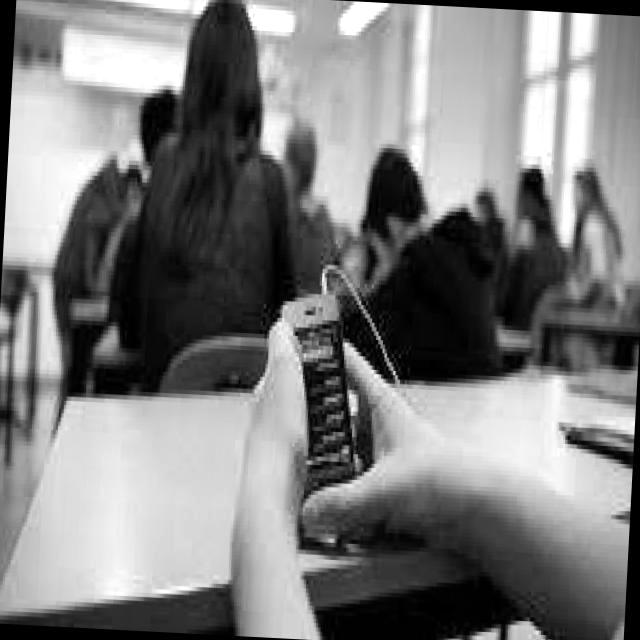phone: (268, 288, 369, 548)
